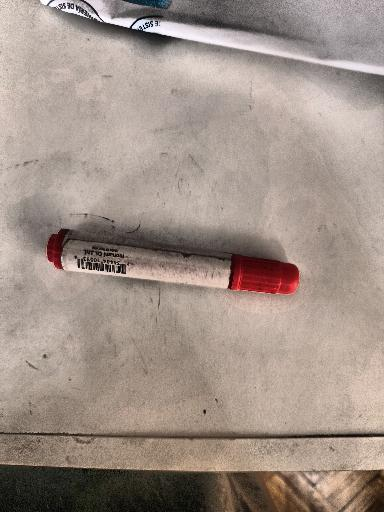marcador rojo: (47, 230, 299, 294)
